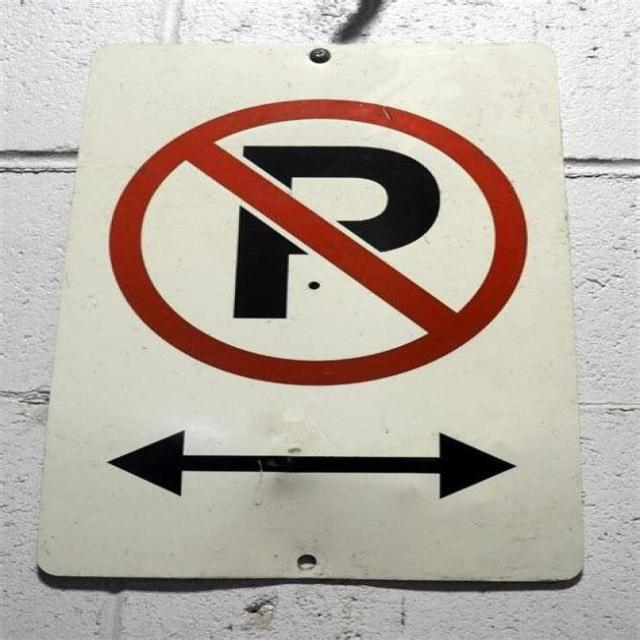no parking: (110, 96, 525, 389)
